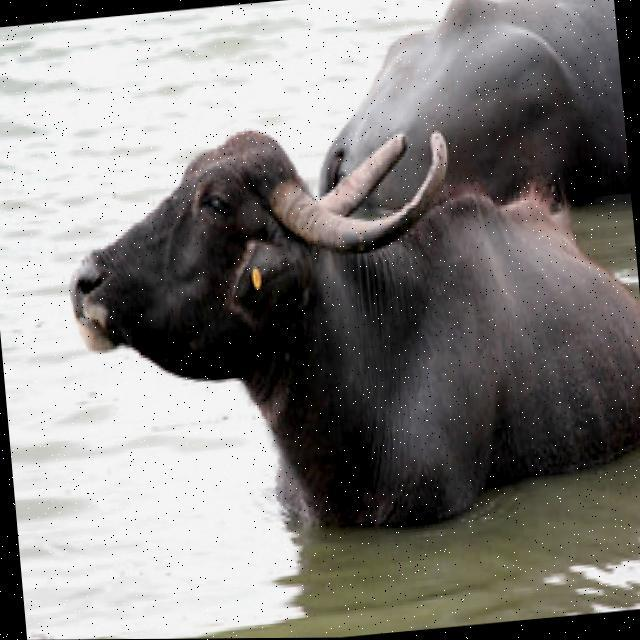Buffalo: (53, 77, 640, 545)
